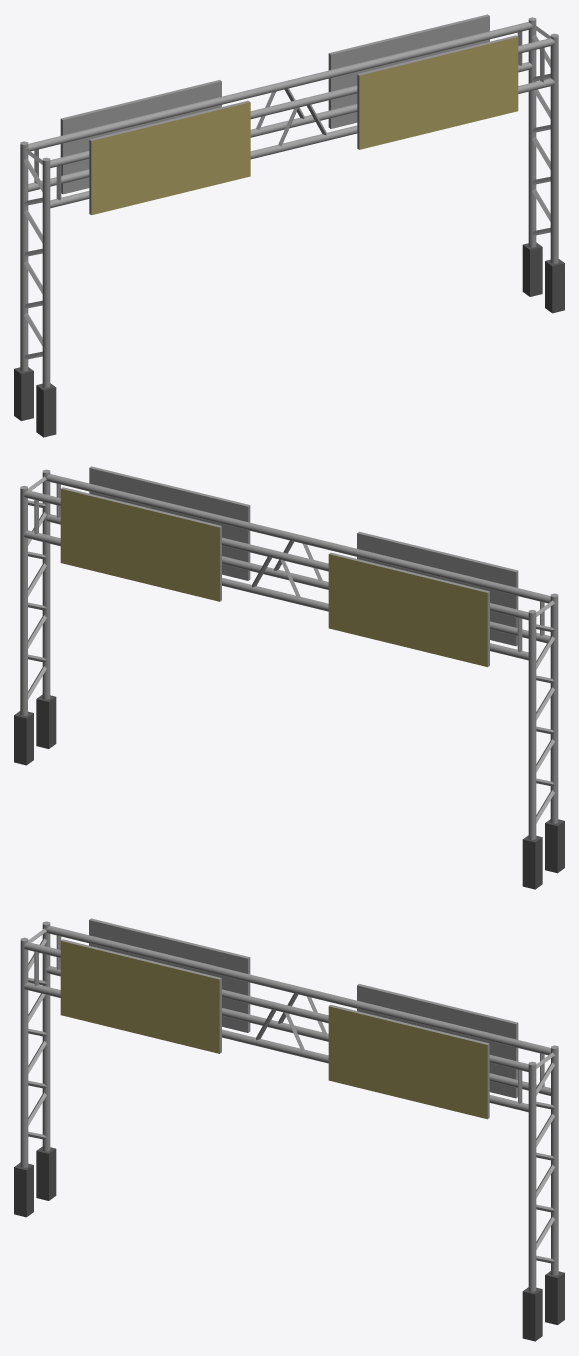
Rendered from HighwaySign.fbx.
3 renders of one model, top to bottom at view 1: azimuth 30°, elevation 25°; view 2: azimuth 150°, elevation 25°; view 3: azimuth 330°, elevation 25°, orthographic.
Visible parts, largest first — view 1: HighwaySign; view 2: HighwaySign; view 3: HighwaySign.
Part boxes in pixels (x1=…): HighwaySign: x1=14, y1=14, x2=564, y2=437; HighwaySign: x1=14, y1=466, x2=564, y2=889; HighwaySign: x1=14, y1=918, x2=564, y2=1341.
Bounding box in the file's own units: 257 × 134 × 26.14.
